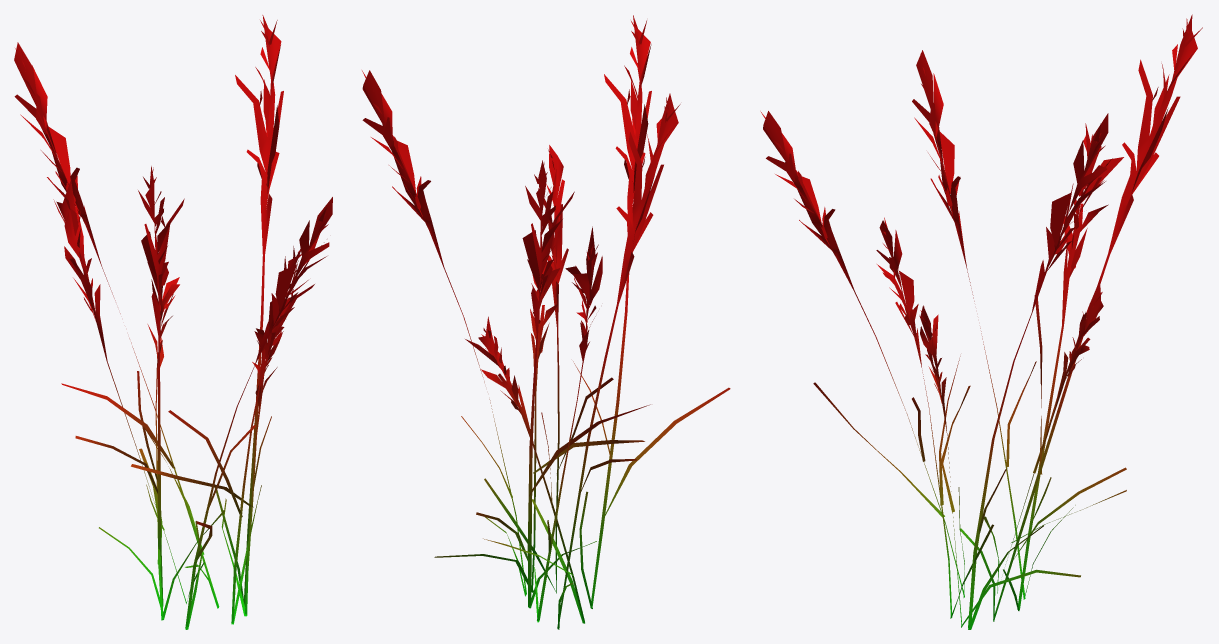
File: Tundra Grass_LOD3_Var19_wk2oaeyqx.fbx
3 views of the same model, side by side, from view 1: azimuth 30°, elevation 25°; view 2: azimuth 150°, elevation 25°; view 3: azimuth 270°, elevation 25° (orthographic). The views are drawn at different scales.
Visible parts, largest first — view 1: _80rh_Var19_LOD3; view 2: _80rh_Var19_LOD3; view 3: _80rh_Var19_LOD3.
Boxes of the visible parts, <box> form: _80rh_Var19_LOD3: <box>14,15,332,629</box>; _80rh_Var19_LOD3: <box>362,15,730,629</box>; _80rh_Var19_LOD3: <box>760,14,1202,629</box>.
Bounding box in the file's own units: 28.27 × 57.75 × 41.55.
